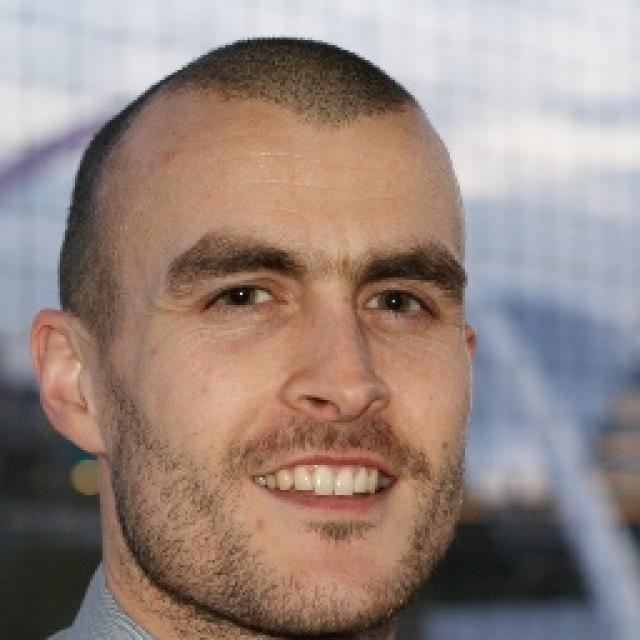earlobe: (29, 307, 108, 456)
